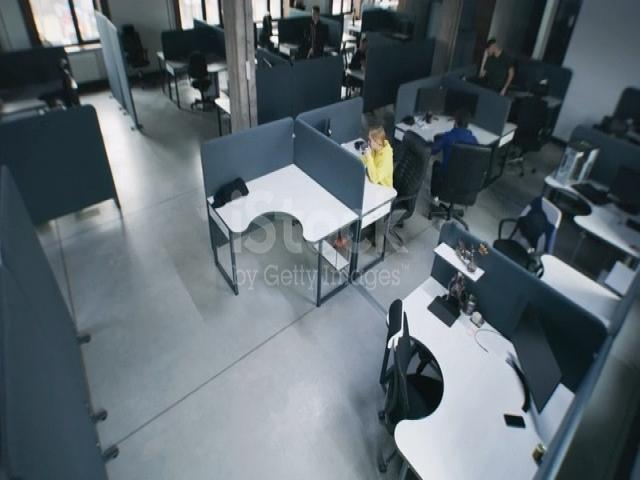empty chair: (383, 299, 425, 469), (499, 192, 557, 247), (118, 19, 155, 104), (178, 54, 223, 122), (42, 52, 93, 111), (525, 72, 549, 141), (599, 103, 635, 141)
occupiedchair: (356, 110, 423, 250), (435, 93, 487, 235), (328, 21, 375, 100)
